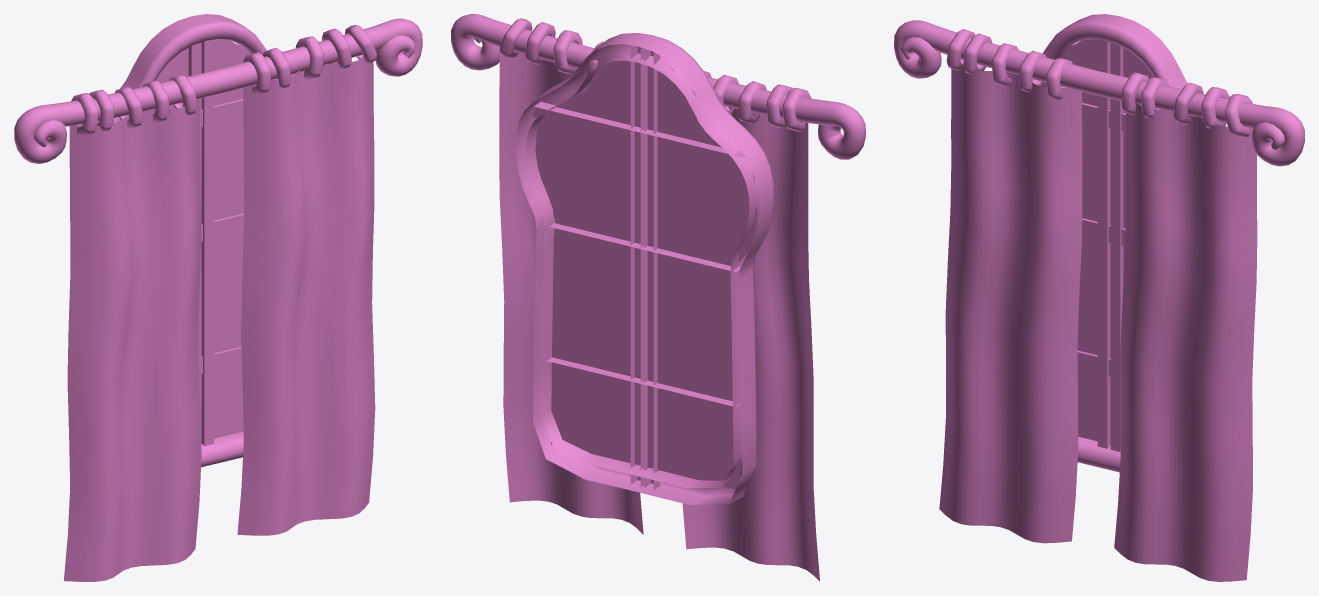
File: ENV_HAU_WINDOW_MODEL.fbx
The picture shows the model from 3 angles, left to right: view 1: azimuth 30°, elevation 25°; view 2: azimuth 150°, elevation 25°; view 3: azimuth 330°, elevation 25°; orthographic projection.
Parts seen in each view (by area): view 1: ENV_HAU_WINDOW_MODEL; view 2: ENV_HAU_WINDOW_MODEL; view 3: ENV_HAU_WINDOW_MODEL.
Part boxes in pixels (x1=…): ENV_HAU_WINDOW_MODEL: x1=14, y1=14, x2=422, y2=581; ENV_HAU_WINDOW_MODEL: x1=451, y1=14, x2=865, y2=581; ENV_HAU_WINDOW_MODEL: x1=894, y1=14, x2=1304, y2=581.
Size of the model in its own units: 87.79 by 106 by 13.79.
